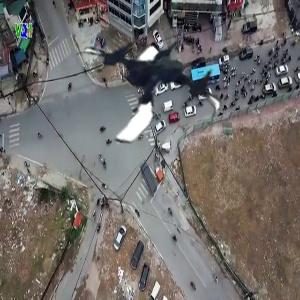drone: (77, 12, 224, 159)
